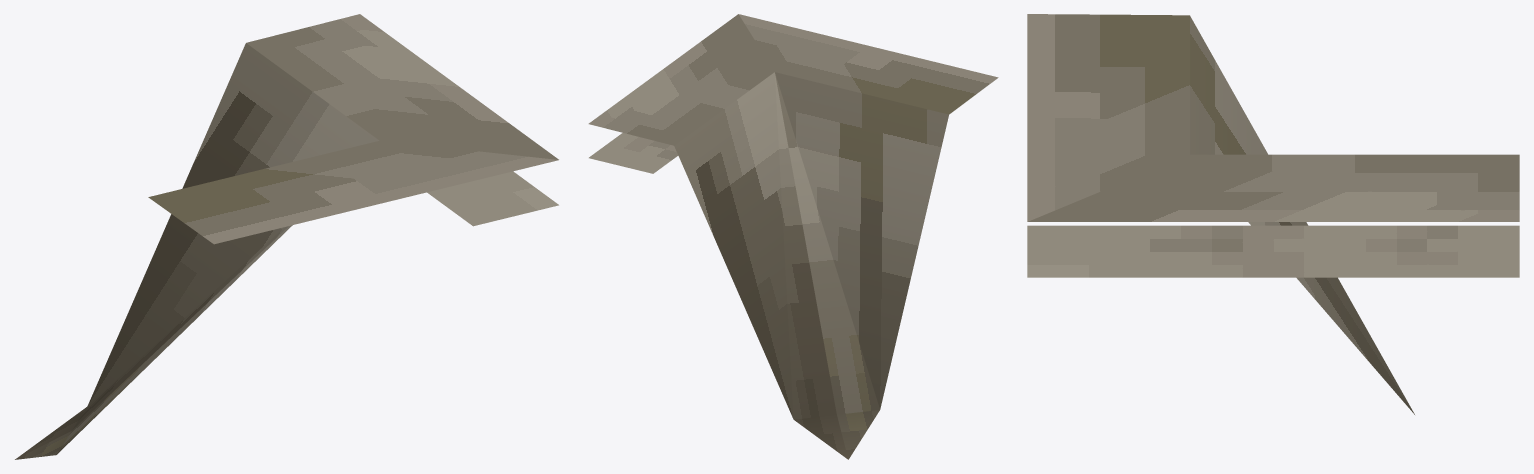
The picture shows the model from 3 angles, left to right: view 1: azimuth 30°, elevation 25°; view 2: azimuth 150°, elevation 25°; view 3: azimuth 270°, elevation 25°; orthographic projection. The views are drawn at different scales.
Bounding box in the file's own units: 1 × 1 × 1.
Materials: 2 (2 with a texture image).
